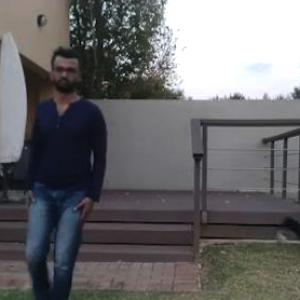follow: (18, 41, 118, 299)
